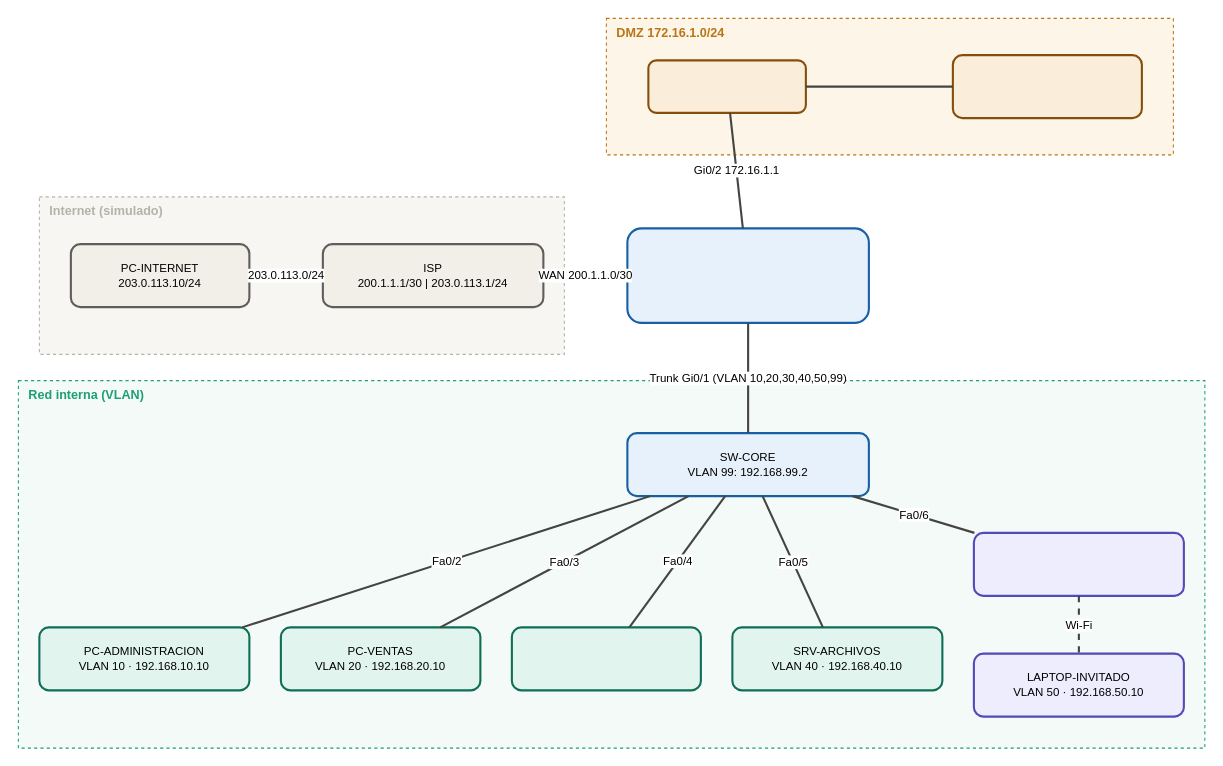
Some shapes in this 1223 by 766 pixel diagram are drawn without their labels. Each missing label, with the box of its shape:
AP-INVITADOS SSID AndesTech-Guest: (972, 531, 1184, 596)
PC-TI VLAN 30 · 192.168.30.10: (510, 626, 701, 691)
R-EDGE Inter-VLAN · NAT/PAT · ACL 200.1.1.2/30: (626, 227, 869, 323)
SRV-WEB 172.16.1.10/24: (951, 54, 1142, 119)
SW-DMZ: (647, 59, 806, 113)
